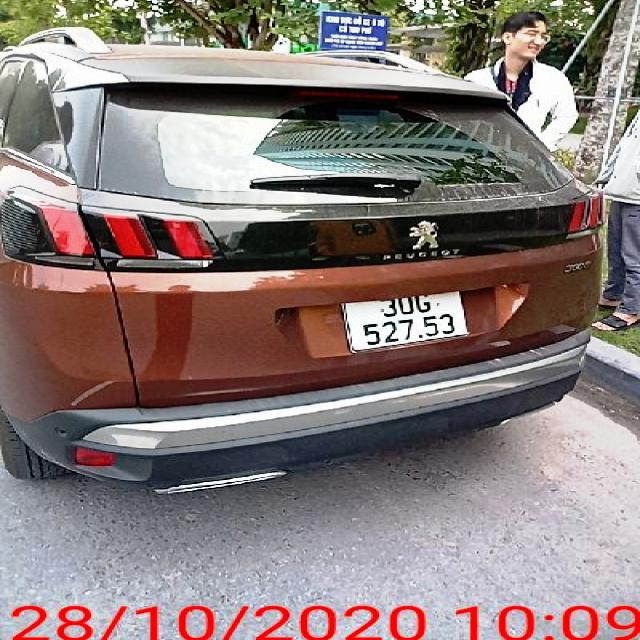license_plate: (345, 291, 467, 352)
